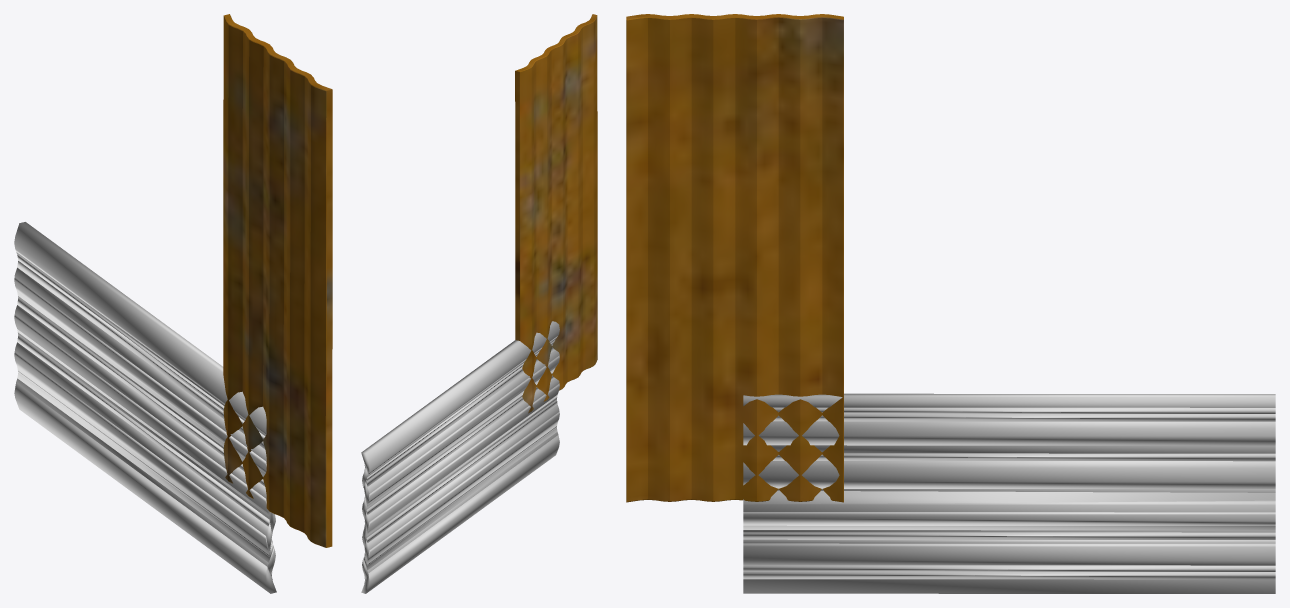
File: SM_MetalPlate_01.fbx
3 views of the same model, side by side, from view 1: azimuth 30°, elevation 25°; view 2: azimuth 150°, elevation 25°; view 3: azimuth 270°, elevation 25° (orthographic). The views are drawn at different scales.
Parts seen in each view (by area): view 1: SM_MetalPlate_01, SM_MetalPlate_01_ConvexHulls; view 2: SM_MetalPlate_01, SM_MetalPlate_01_ConvexHulls; view 3: SM_MetalPlate_01, SM_MetalPlate_01_ConvexHulls.
Boxes of the visible parts, <box> form: SM_MetalPlate_01: <box>223,14,332,547</box>; SM_MetalPlate_01_ConvexHulls: <box>14,222,276,593</box>; SM_MetalPlate_01: <box>515,14,597,413</box>; SM_MetalPlate_01_ConvexHulls: <box>361,321,559,593</box>; SM_MetalPlate_01: <box>626,14,843,502</box>; SM_MetalPlate_01_ConvexHulls: <box>743,393,1275,593</box>.
Size of the model in its own units: 0.0548 by 2.34 by 2.4.
